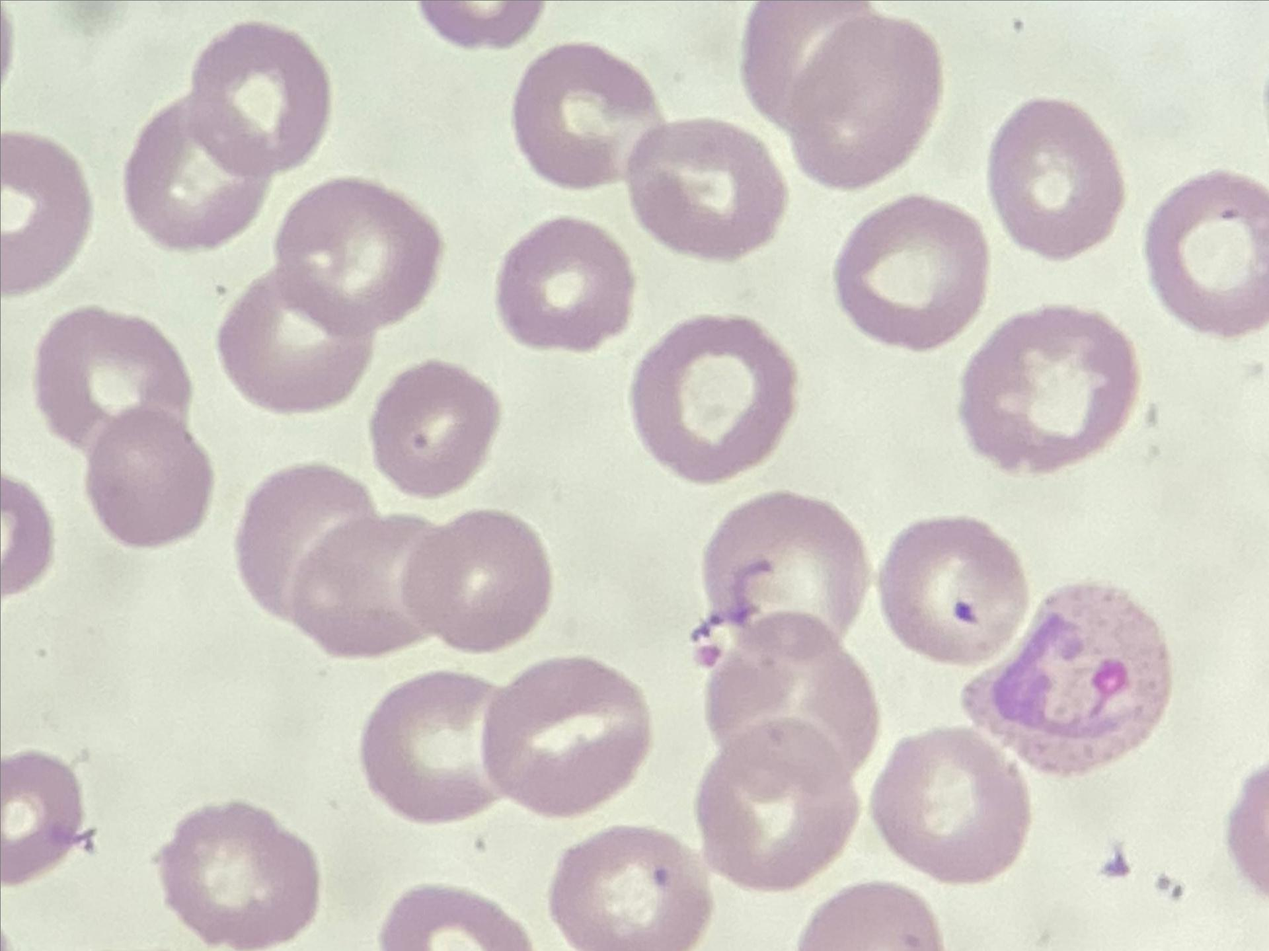Infected: (93, 182, 305, 368)
Uninfected: (390, 157, 567, 340), (410, 60, 575, 234), (471, 468, 636, 637), (132, 478, 301, 642), (402, 291, 564, 457), (616, 134, 783, 292), (329, 762, 480, 935), (828, 617, 993, 772), (238, 68, 398, 221), (278, 598, 431, 755), (947, 4, 1109, 150), (894, 534, 1048, 687), (479, 689, 642, 833), (996, 694, 1147, 847), (747, 129, 905, 275), (818, 296, 978, 439), (142, 691, 282, 853), (892, 327, 1031, 487), (245, 283, 391, 434), (1082, 498, 1231, 644), (939, 777, 1083, 927), (611, 762, 756, 908), (717, 299, 866, 440), (554, 0, 718, 126), (0, 610, 122, 779), (1056, 402, 1187, 545), (765, 453, 894, 588), (638, 598, 771, 728), (1190, 71, 1269, 201)
